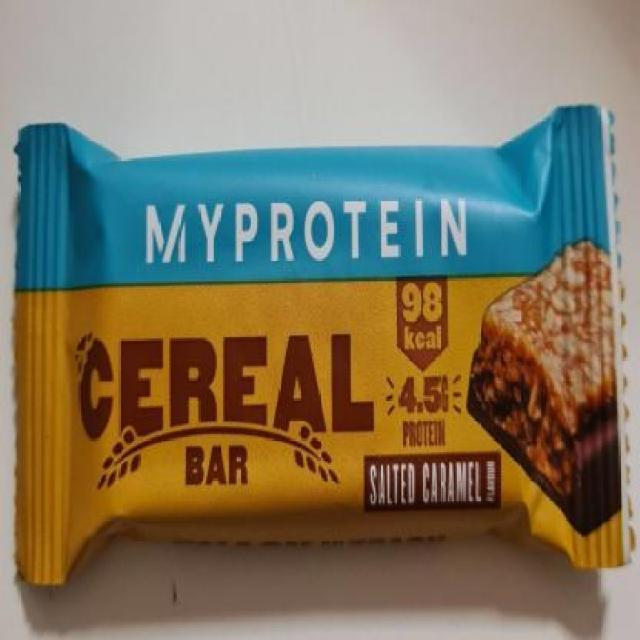Cereal bar: (11, 98, 636, 598)
